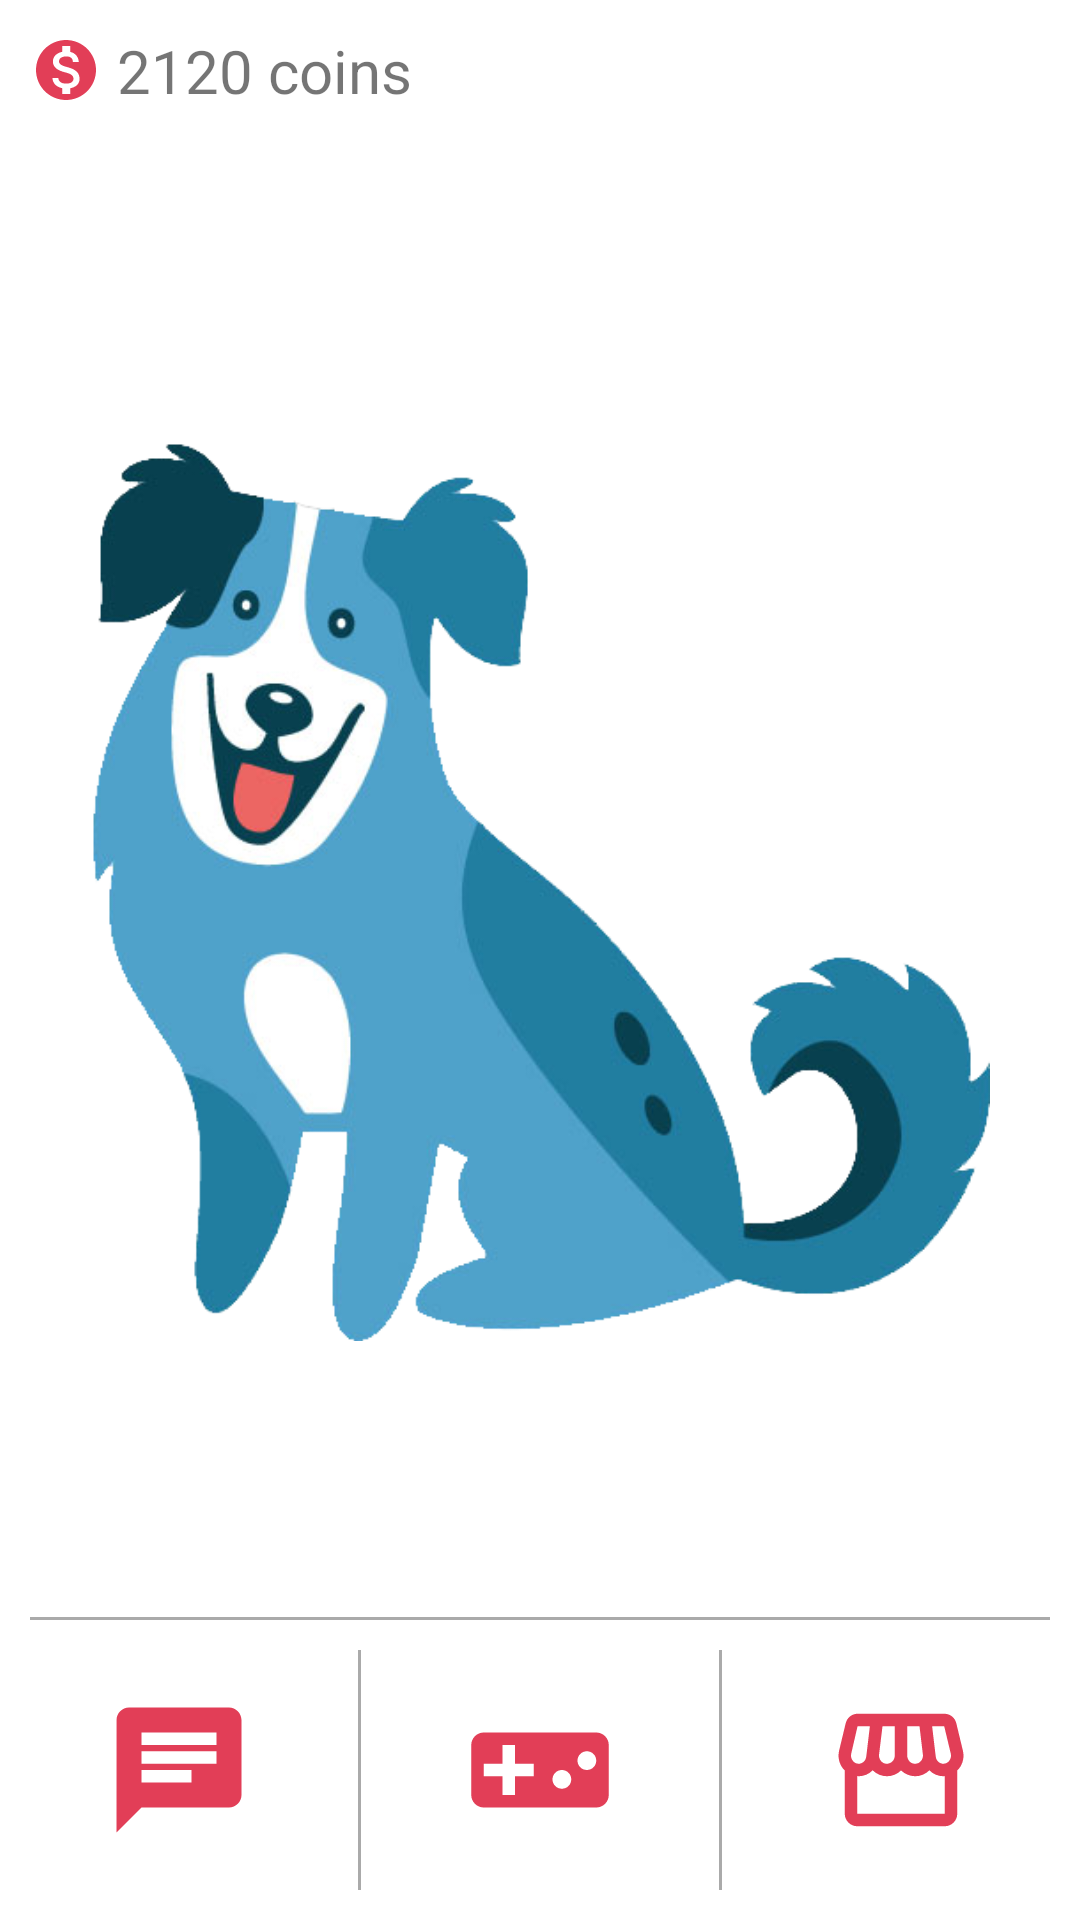

Screen size 1080x1920. Icon name, then its box in pixels as (x1=x1, y1=y1, x2=x2, y2=y2):
chat: (x1=116, y1=1707, x2=242, y2=1832)
storefront: (x1=838, y1=1713, x2=964, y2=1827)
videogame: (x1=471, y1=1732, x2=609, y2=1808)
